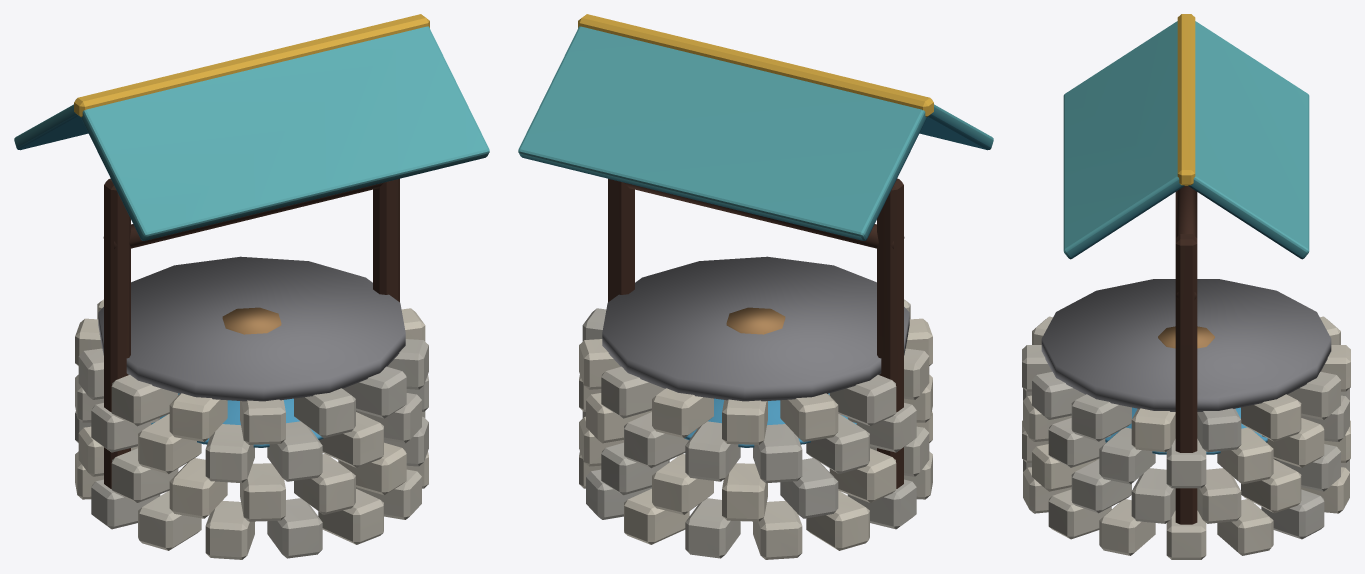
The model's file is well.glb.
The picture shows the model from 3 angles, left to right: view 1: azimuth 30°, elevation 25°; view 2: azimuth 150°, elevation 25°; view 3: azimuth 270°, elevation 25°; orthographic projection. The views are drawn at different scales.
Parts seen in each view (by area): view 1: Well, WellWater; view 2: Well, WellWater; view 3: Well.
Boxes of the visible parts, x1,y1,x2,y2 form: Well: [14, 14, 489, 559]; WellWater: [151, 393, 323, 447]; Well: [518, 14, 993, 559]; WellWater: [684, 393, 856, 447]; Well: [1022, 14, 1350, 559].
Size of the model in its own units: 1.72 by 2.02 by 1.5.
